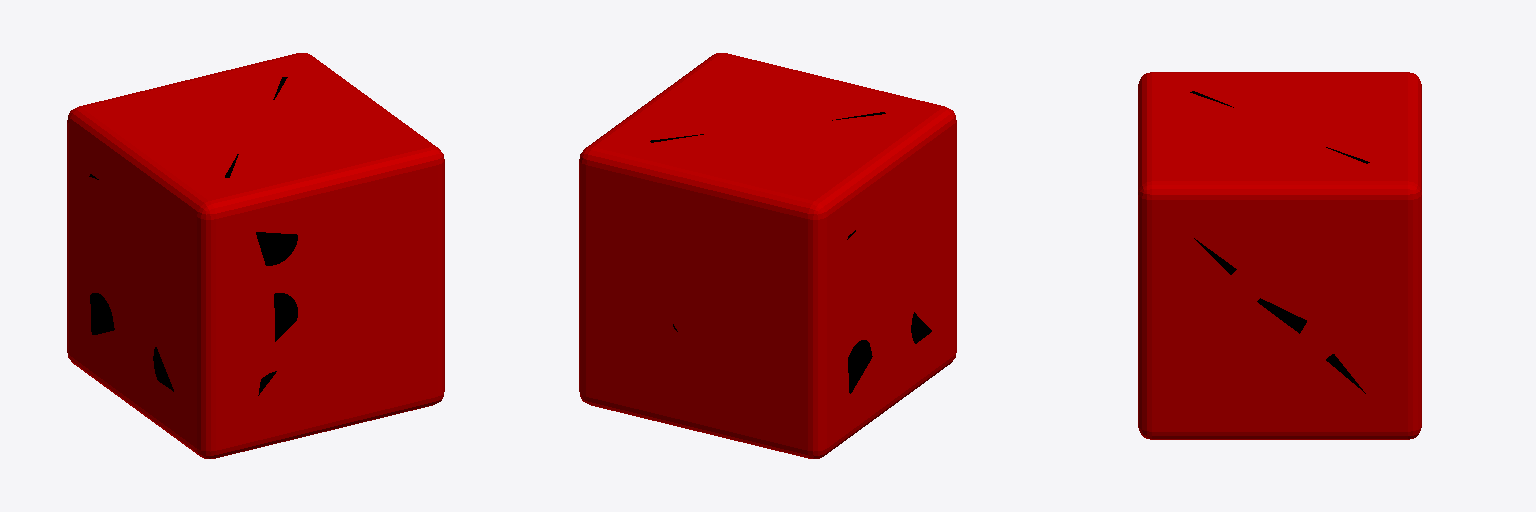
File: Dice.obj
The picture shows the model from 3 angles: view 1: azimuth 30°, elevation 25°; view 2: azimuth 150°, elevation 25°; view 3: azimuth 270°, elevation 25°; orthographic projection.
Visible parts, largest first — view 1: Cube.001; view 2: Cube.001; view 3: Cube.001.
Part boxes in pixels (bbox=[...]): Cube.001: bbox=[67, 53, 444, 458]; Cube.001: bbox=[579, 53, 956, 458]; Cube.001: bbox=[1138, 72, 1421, 439].
Size of the model in its own units: 2 by 2 by 2.